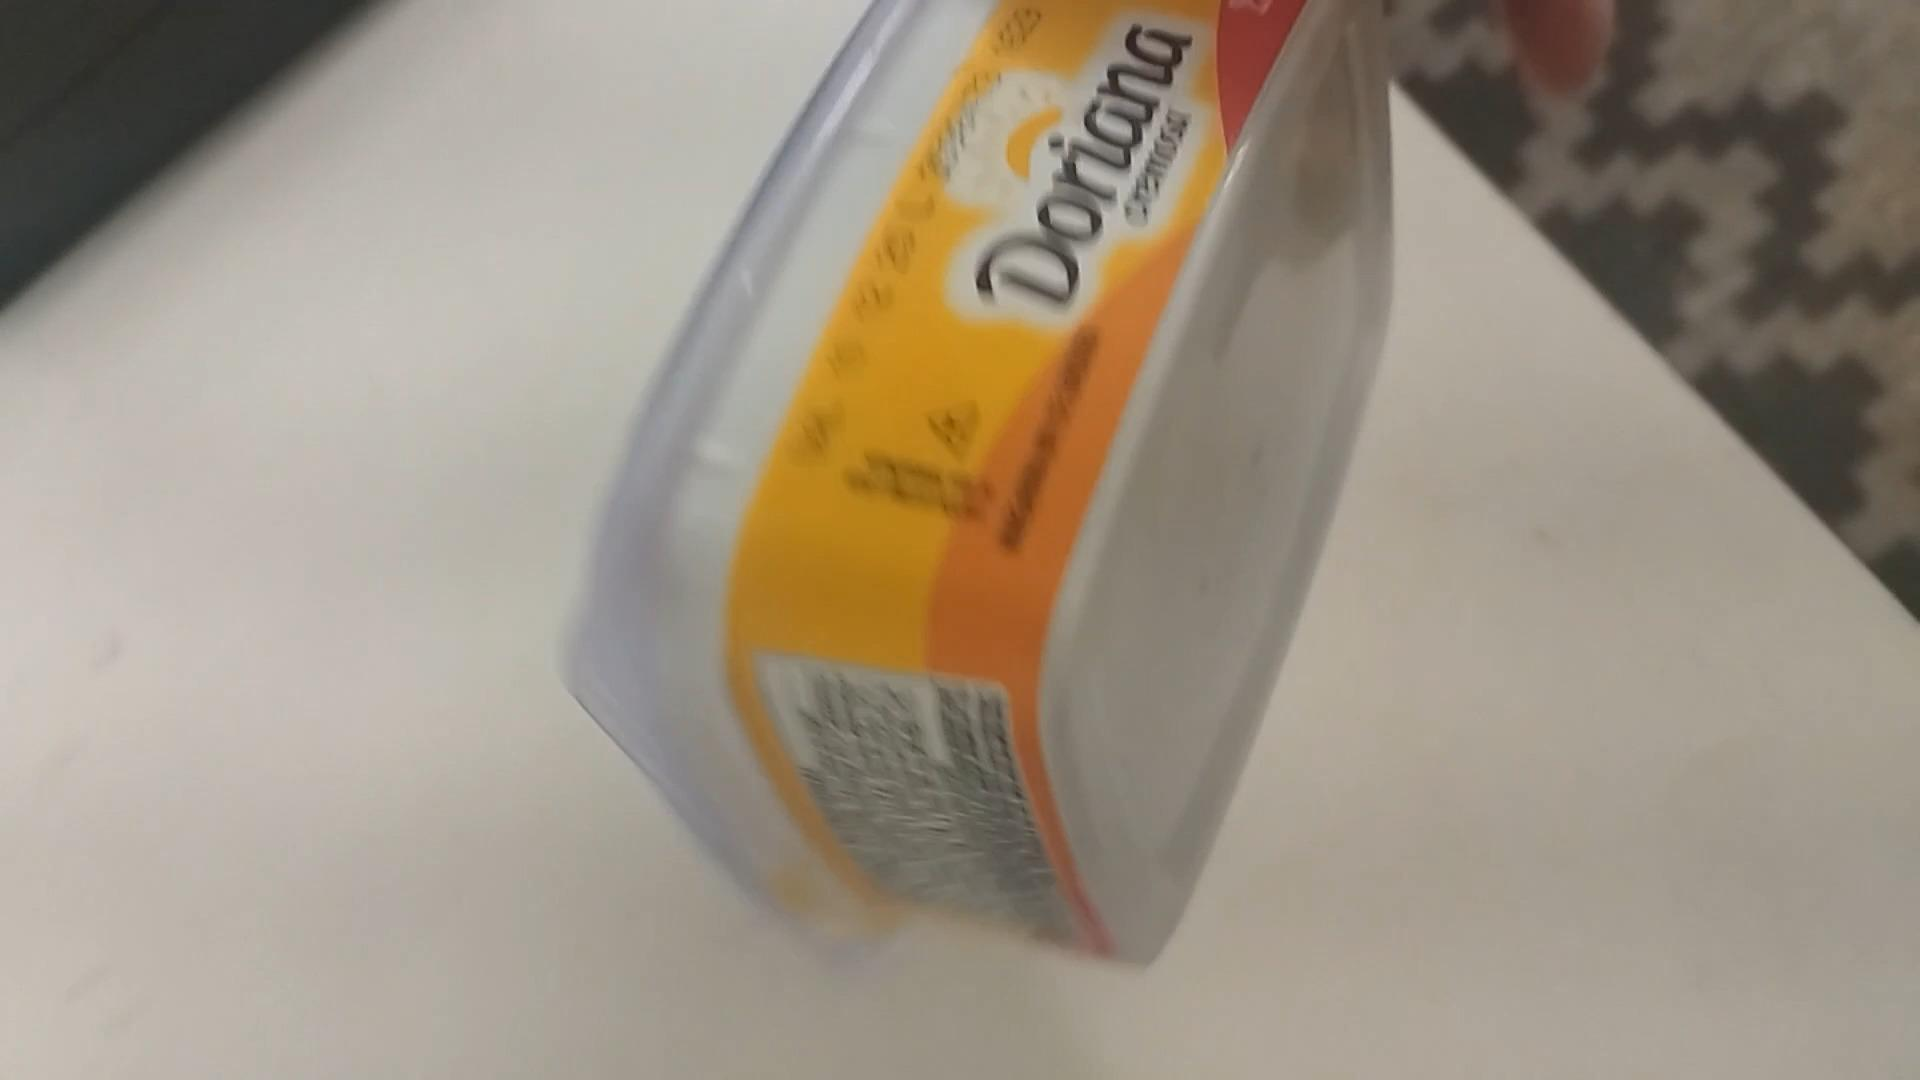butter: (564, 5, 1415, 990)
